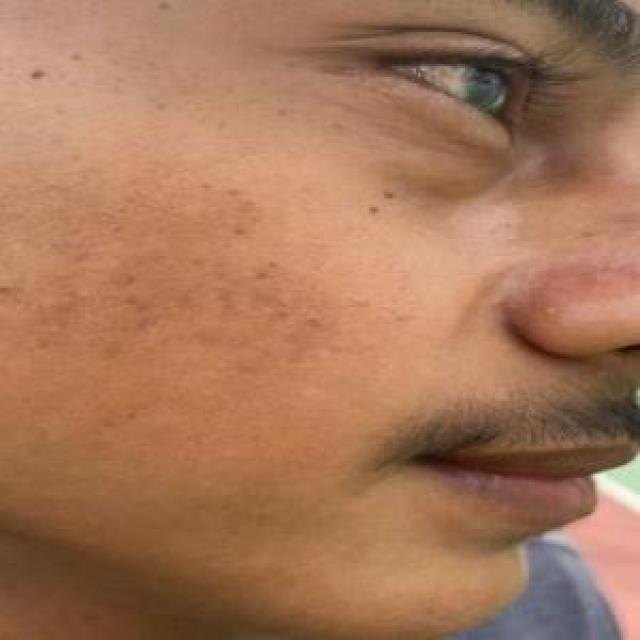Dry-Skin: (314, 92, 596, 219)
